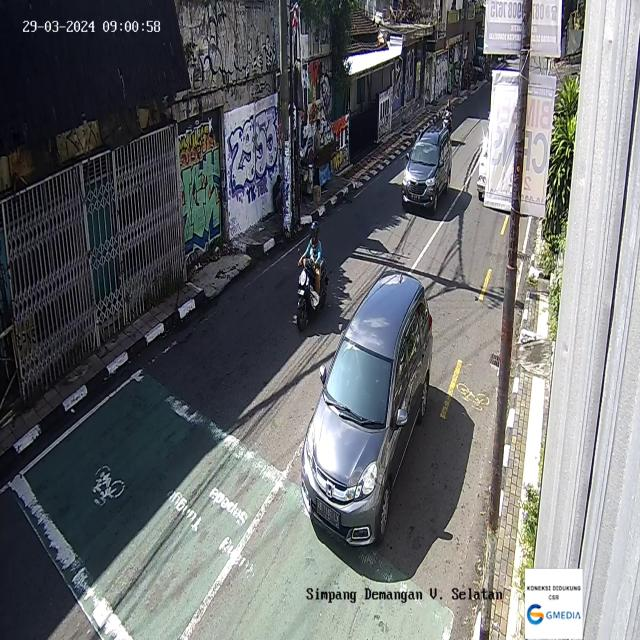car: (300, 269, 433, 548), (401, 117, 452, 215)
motorcycle: (296, 220, 329, 332), (440, 99, 454, 137)
